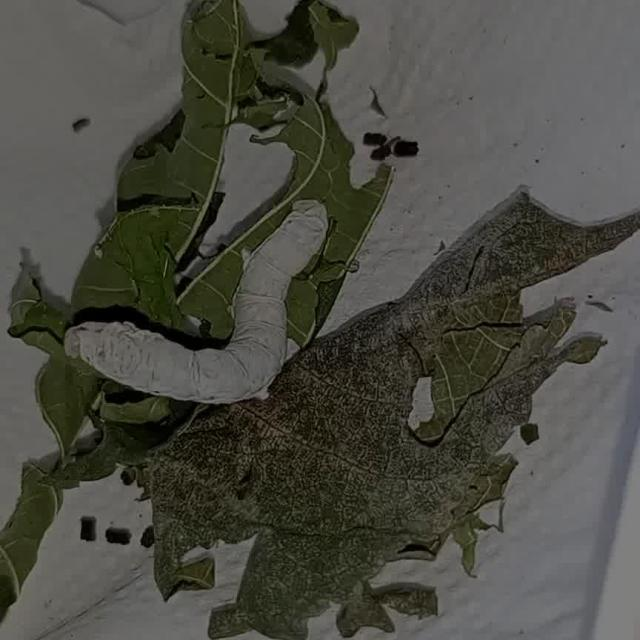Healthy: (43, 181, 366, 432)
